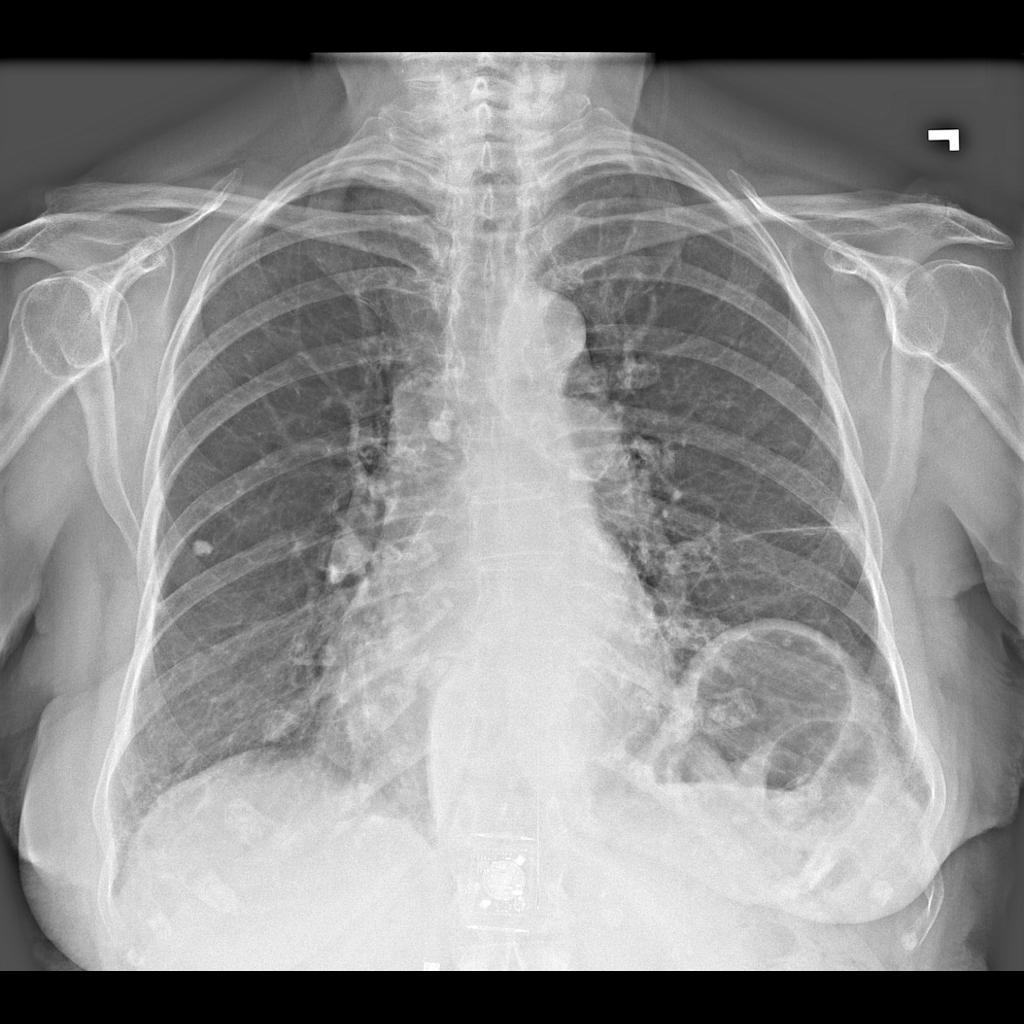Nodule: (341, 633, 424, 744)
